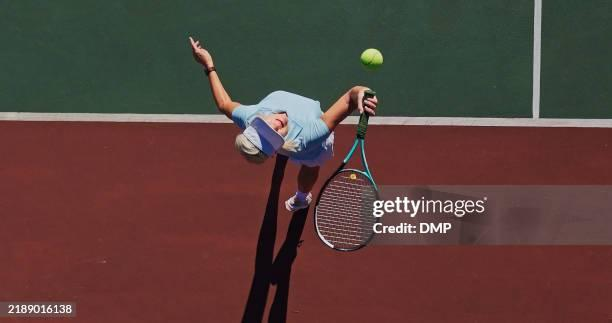ball_tennis: (362, 49, 384, 70)
